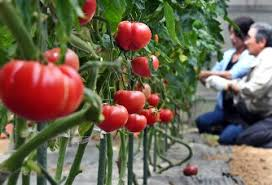tomato: (2, 60, 82, 119), (115, 21, 153, 53), (115, 89, 147, 114), (98, 104, 126, 131), (132, 55, 158, 81), (126, 113, 146, 131), (144, 109, 160, 126), (159, 109, 174, 122), (148, 93, 160, 107)
